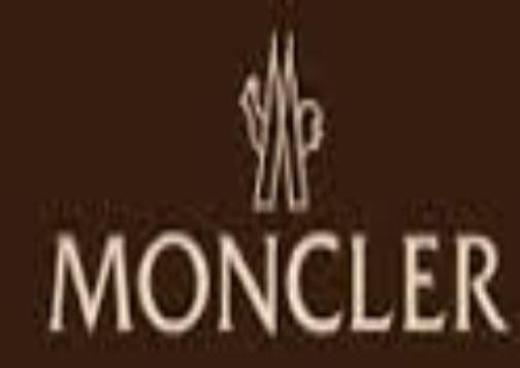MONCLER: (42, 222, 512, 338), (232, 25, 327, 216)
